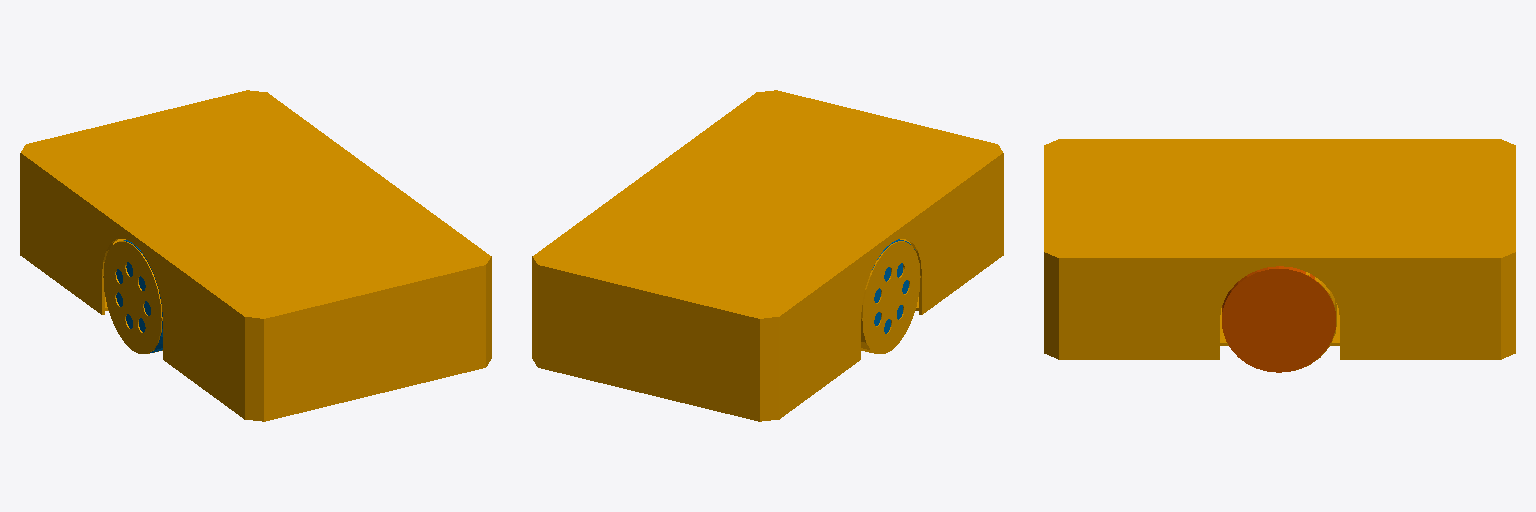
The robot description file, URDF, robot "ITU_AGV":
<?xml version="1.0"?>

<robot
  name="ITU_AGV">

  <material name="blue">
    <color rgba="0 0 0.8 1"/>
  </material>

  <link name="base_link">
    <visual>  
       <origin xyz="0 0 0" rpy="0 0 0" />
      <geometry>
        <mesh
          filename="package://itu_agv_description/meshes/agv.dae"/>
      </geometry>
    </visual> 
    <collision>
    	<geometry>
    	  <mesh
          filename="package://itu_agv_description/meshes/agv.dae"/>
    	</geometry>
    </collision>
    <inertial>
      <mass value="5"/>
      <inertia ixx="0.07" ixy="0.0" ixz="0.0" iyy="0.08" iyz="0.0" izz="0.1"/>
    </inertial>	
  </link>
  
    <link name="front_caster">
  	<visual>
  		<pose xyz="0 0.25 0.05" rpy="0 0 0"/>
  		<geometry>
        	   <sphere radius="0.05"/>
        	</geometry>
        </visual>
        <collision>
        	<pose xyz="0 0.25 0.05" rpy="0 0 0"/>
  		<geometry>
        	   <sphere radius="0.05"/>
        	</geometry>
        </collision>
   </link>
   
   <joint name="base_link_to_front_caster" type="fixed">
       <parent link="base_link"/>
       <child link="front_caster"/>
       <origin xyz="0 0.25 0.03" rpy="0 0 0"/>
  </joint> 
   
   <link name="back_caster">
  	<visual>
  		<pose xyz="0 -0.25 0.03" rpy="0 0 0"/>
  		<geometry>
        	   <sphere radius="0.05"/>
        	</geometry>
        </visual>
        <collision>
        	<pose xyz="0 -0.25 0.03" rpy="0 0 0"/>
  		<geometry>
        	   <sphere radius="0.05"/>
        	</geometry>
        </collision>
   </link>
   
   <joint name="base_link_to_back_caster" type="fixed">
      <parent link="base_link"/>
      <child link="back_caster"/>
      <origin xyz="0 -0.25 0.03" rpy="0 0 0"/>
   </joint>
   
   <link name="AGV_1/base_footprint"/>
    <joint name="base_joint" type="fixed">
       <parent link="AGV_1/base_footprint"/>
       <child link="base_link"/>
       <origin xyz="0 0 0" rpy="0 0 0"/>
    </joint> 
  
   <link name="wheel_left">
       <visual>
          <origin xyz="0 0 0"  rpy="0 0 0" />
          <geometry>
      	     <cylinder radius="0.1" length="0.05"/>
          </geometry>
       </visual>
       <collision>
  	  <geometry>
      	     <cylinder radius="0.1" length="0.05"/>
        </geometry>
       </collision>
   </link>
   
   <joint name="base_link_to_wheel_left" type="continuous">
    <parent link="base_link"/>
    <child link="wheel_left"/>
    <axis xyz="0 0 1"/>
    <origin xyz="-0.22 0.005 0.1" rpy="0 -1.57079633 0"/>
  </joint> 
  
  <link name="wheel_right">
     <visual>
       <origin xyz="0 0 0" rpy="0 0 0" />
        <geometry>
      	 <cylinder radius="0.1" length="0.05"/>
       </geometry>
     </visual>
     <collision>
  	<geometry>
         <cylinder radius="0.1" length="0.05"/>
        </geometry>
     </collision>
   </link>
   
   <joint name="base_link_to_wheel_right" type="continuous">
    <parent link="base_link"/>
    <child link="wheel_right"/>
    <axis xyz="0 0 1"/>
    <origin xyz="0.22 0.005 0.1" rpy="0 -1.57079633 0"/>
  </joint> 
    
  <link name="laser_front">
    <visual>
      <geometry>
        <mesh
          filename="package://itu_agv_description/meshes/lms200.dae" scale="0.001 0.001 0.001" />
      </geometry>
      <origin rpy="-1.57079633 0 3.14" xyz="0 0 0"/> 
    </visual>
    <collision>
      <geometry>
        <mesh
          filename="package://itu_agv_description/meshes/lms200.dae" scale="0.001 0.001 0.001" />
      </geometry>
    </collision>  
  </link>

  <joint name="base_link_to_laser_front" type="fixed">
    <parent link="base_link"/>
    <child link="laser_front"/>
    <origin xyz="0 0.4 0.305" rpy="0 0 0"/>
  </joint>

  <link name="laser_back">
    <visual>
      <geometry>
        <mesh
        filename="package://itu_agv_description/meshes/lms200_2.dae" scale="0.001 0.001 0.001" />
      </geometry>
      <origin rpy="-1.57079633 0 0" xyz="-0.0775 -0.078 0.105"/>
      <material name="blue"/>
    </visual>
    <collision>
      <geometry>
        <mesh
        filename="package://itu_agv_description/meshes/lms200_2.dae" scale="0.001 0.001 0.001" />
      </geometry>
     </collision> 
  </link>

  <joint name="base_link_to_laser_back" type="fixed">
    <parent link="base_link"/>
    <child link="laser_back"/>
    <origin xyz="0 -0.4 0.305" rpy="0 0 3.14"/>
  </joint>
  
   <link name="platform">
  	<visual>
  	   <geometry>
  	      <mesh
  		filename="package://itu_agv_description/meshes/tabla.dae" />
      	   </geometry>
      	   <origin rpy="1.571 0 1.571" xyz="-0.925 0.13 -0.41"/> 
      	</visual>
      	<collision>
         <geometry>
          <mesh
          filename="package://itu_agv_description/meshes/tabla.dae" />
         </geometry>
      <origin rpy="1.571 0 1.571" xyz="-0.925 0.13 -0.41"/>
      </collision> 
  </link> 
  
  <joint name="base_link_to_tabla" type="fixed">
    <parent link="base_link"/>
    <child link="platform"/>
    <origin xyz="0 0 0.55" rpy="0 0 0"/>
  </joint> 
  
  <link name="Velodyne">
  	<visual>
  	   <geometry>
  	      <mesh
  		filename="package://itu_agv_description/meshes/Velodyne.dae" />
      	   </geometry>
      	   <origin rpy="1.571 0 1.571" xyz="0 0 -0.05"/> 
      	</visual>
      	<collision>
      <geometry>
        <mesh
        filename="package://itu_agv_description/meshes/Velodyne.dae" />
      </geometry>
      <origin rpy="1.571 0 1.571" xyz="0 0 -0.05"/>
      </collision> 
  </link> 
  
  <joint name="base_link_to_Velodyne" type="fixed">
    <parent link="base_link"/>
    <child link="Velodyne"/>
    <origin xyz="0 0 0.7" rpy="0 0 0"/>
  </joint> 
  
  <link name="Camera">
  	<visual>
  	   <geometry>
  	      <mesh
  		filename="package://itu_agv_description/meshes/Camera.dae" />
      	   </geometry>
      	   <origin rpy="-1.571 0 0" xyz="0 0 0"/> 
      	</visual>
      	<collision>
      <geometry>
        <mesh
        filename="package://itu_agv_description/meshes/Camera.dae" />
      </geometry>
     </collision> 
  </link> 
  
  <joint name="base_link_to_Camera" type="fixed">
    <parent link="base_link"/>
    <child link="Camera"/>
    <origin xyz="0 0.125 0.57" rpy="0 0 0"/>
  </joint> 
  
  <link name="IMU">
  	<visual>
  	   <geometry>
  	      <mesh
  		filename="package://itu_agv_description/meshes/IMU.dae" />
      	   </geometry>
      	   <origin rpy="0 0 0" xyz="0 0 0"/> 
      	</visual>
      	<collision>
      <geometry>
        <mesh
        filename="package://itu_agv_description/meshes/IMU.dae" />
      </geometry>
     </collision> 
  </link> 
  
  <joint name="base_link_to_IMU" type="fixed">
    <parent link="base_link"/>
    <child link="IMU"/>
    <origin xyz="0 0 0.56" rpy="0 0 3.14"/>
  </joint>  
  
</robot>

--- Facts derived from the render (not from the file) ---
Views: 3 orthographic renders of the robot side by side, from view 1: azimuth 30°, elevation 25°; view 2: azimuth 150°, elevation 25°; view 3: azimuth 270°, elevation 25°.
Robot: ITU_AGV — 12 links, 11 joints (2 continuous, 9 fixed); root link AGV_1/base_footprint; default pose: every joint at zero.
Links seen in each view (by area): view 1: base_link, wheel_left; view 2: base_link, wheel_left; view 3: base_link, wheel_right.
Boxes of the visible links, x1,y1,x2,y2 form: base_link: (20, 90, 491, 421); wheel_left: (116, 240, 162, 352); base_link: (532, 90, 1003, 421); wheel_left: (872, 239, 914, 333); base_link: (1044, 139, 1515, 370); wheel_right: (1222, 266, 1335, 372).
Size in the robot's own frame: 0.4921 by 0.82 by 0.2391 metres.
Meshes: 7 distinct files referenced, 1 mesh visuals loaded (1 Collada DAE); not drawn: 4 (reference not matched to a file when rendering), 2 (file found but could not be loaded).